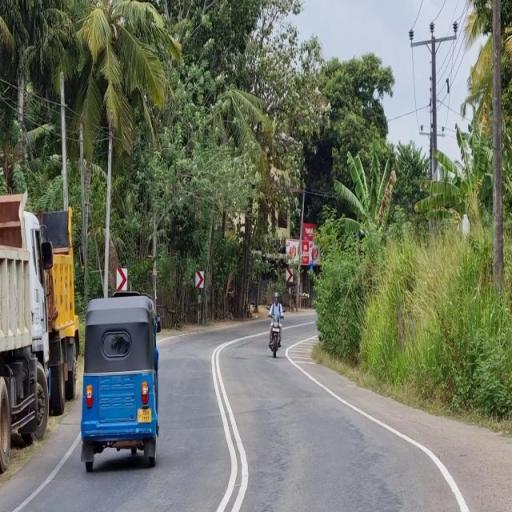double_white_line: (210, 334, 251, 512)
